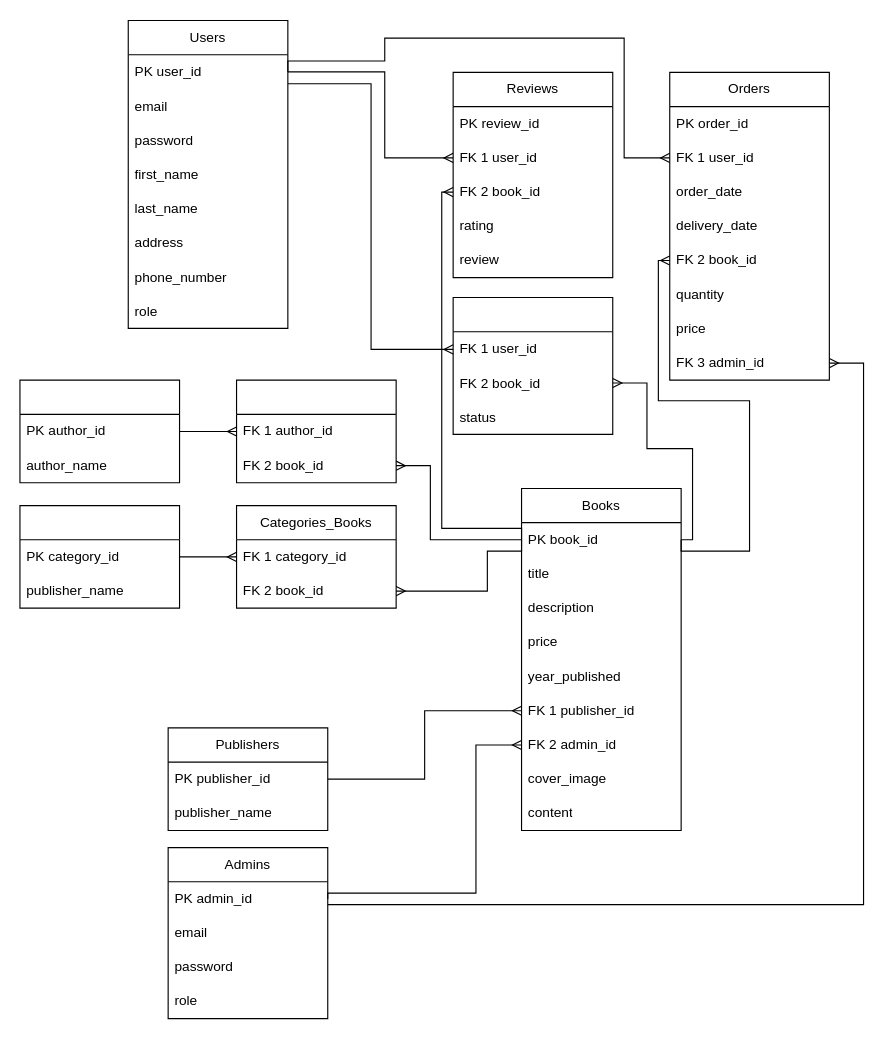
Image size: 893x1039. Some labels were removed from this diagram. The box of each missing label's shape, as (x1, y1, x2, y2) in pixels:
Authors: (19, 379, 180, 483)
Authors_Books: (235, 379, 396, 483)
Categories: (19, 504, 180, 608)
UserBooks: (452, 296, 613, 434)
